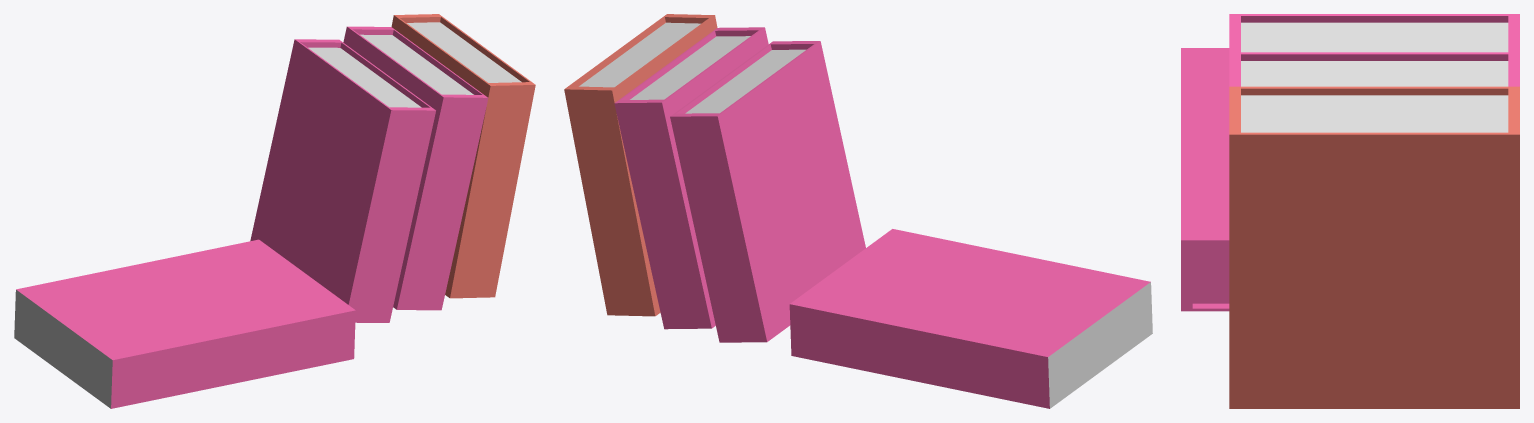
File: BookPile.glb
3 views of the same model, side by side, from view 1: azimuth 30°, elevation 25°; view 2: azimuth 150°, elevation 25°; view 3: azimuth 270°, elevation 25° (orthographic). The views are drawn at different scales.
Visible parts, largest first — view 1: BookPile; view 2: BookPile; view 3: BookPile.
Part boxes in pixels (x1,y1,x2,y2): BookPile: (14,14,535,408); BookPile: (564,14,1152,408); BookPile: (1181,14,1519,408).
Bounding box in the file's own units: 2.31 × 1.12 × 1.02.
